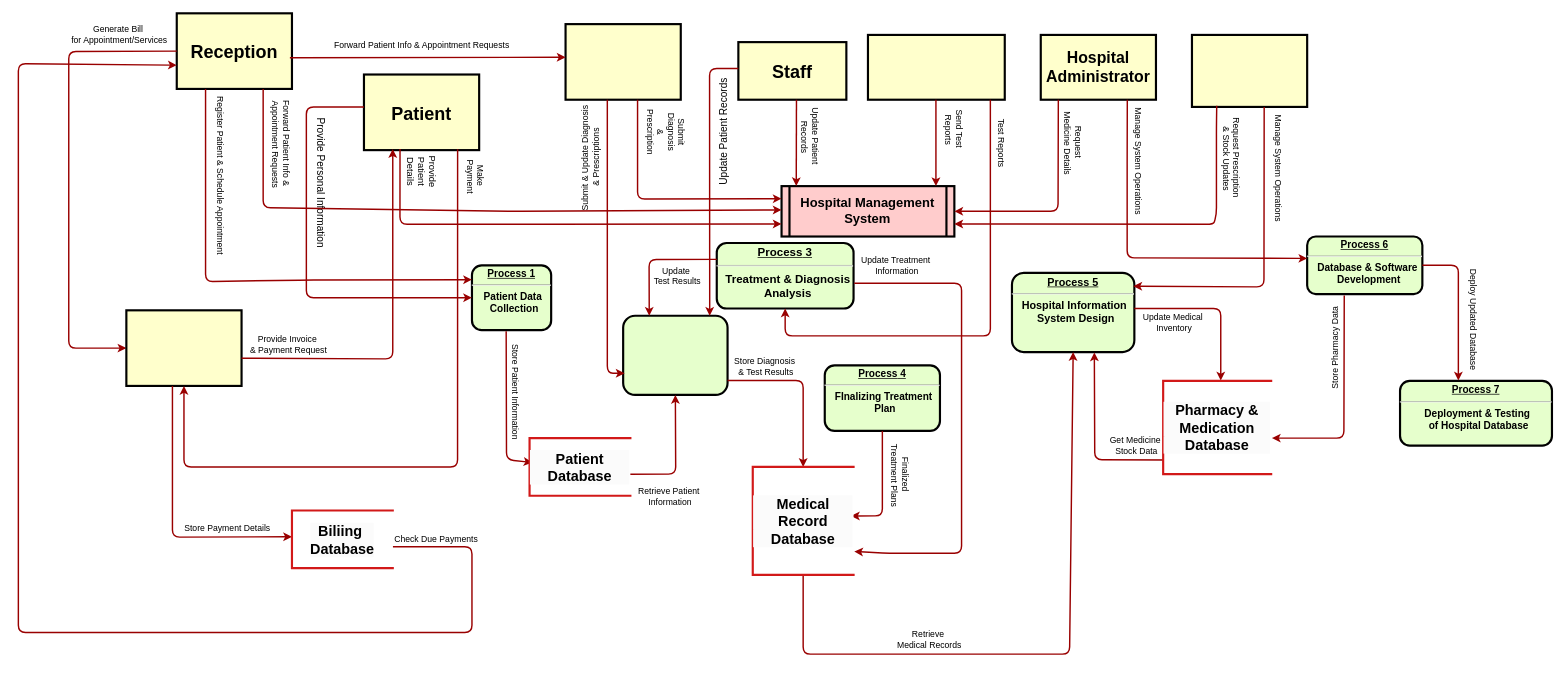
This 1565x673 diagram has some shape labels left out. Each missing label, with the centre of its shape:
"Billing & Payment" belongs at point (183, 348).
"Doctor" belongs at point (622, 61).
"Laboratory" belongs at point (936, 66).
"Pharmacy & Medication" belongs at point (1249, 70).
"Process 2 Medical Record Managment" belongs at point (675, 355).
